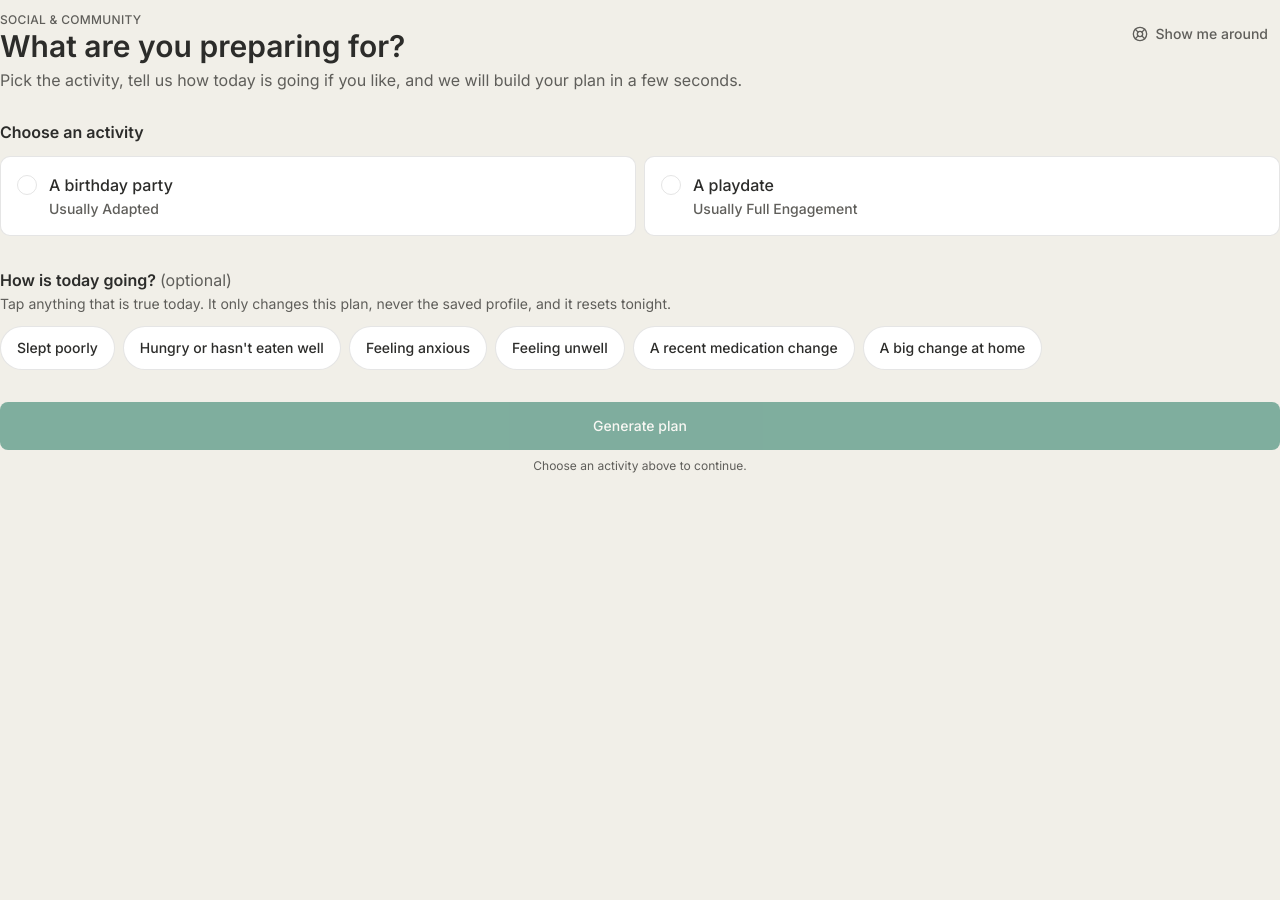
Test case: PlanScreen duplicate-plans guard › re-opens the existing plan via api.getPlan (a READ) and never POSTs api.preparePlan
Expected: the text "A birthday party" is shown, x1=49 y1=173 x2=173 y2=197
Click the button "A birthday party Usually Adapted" at (111, 185), box x1=0 y1=156 x2=636 y2=236
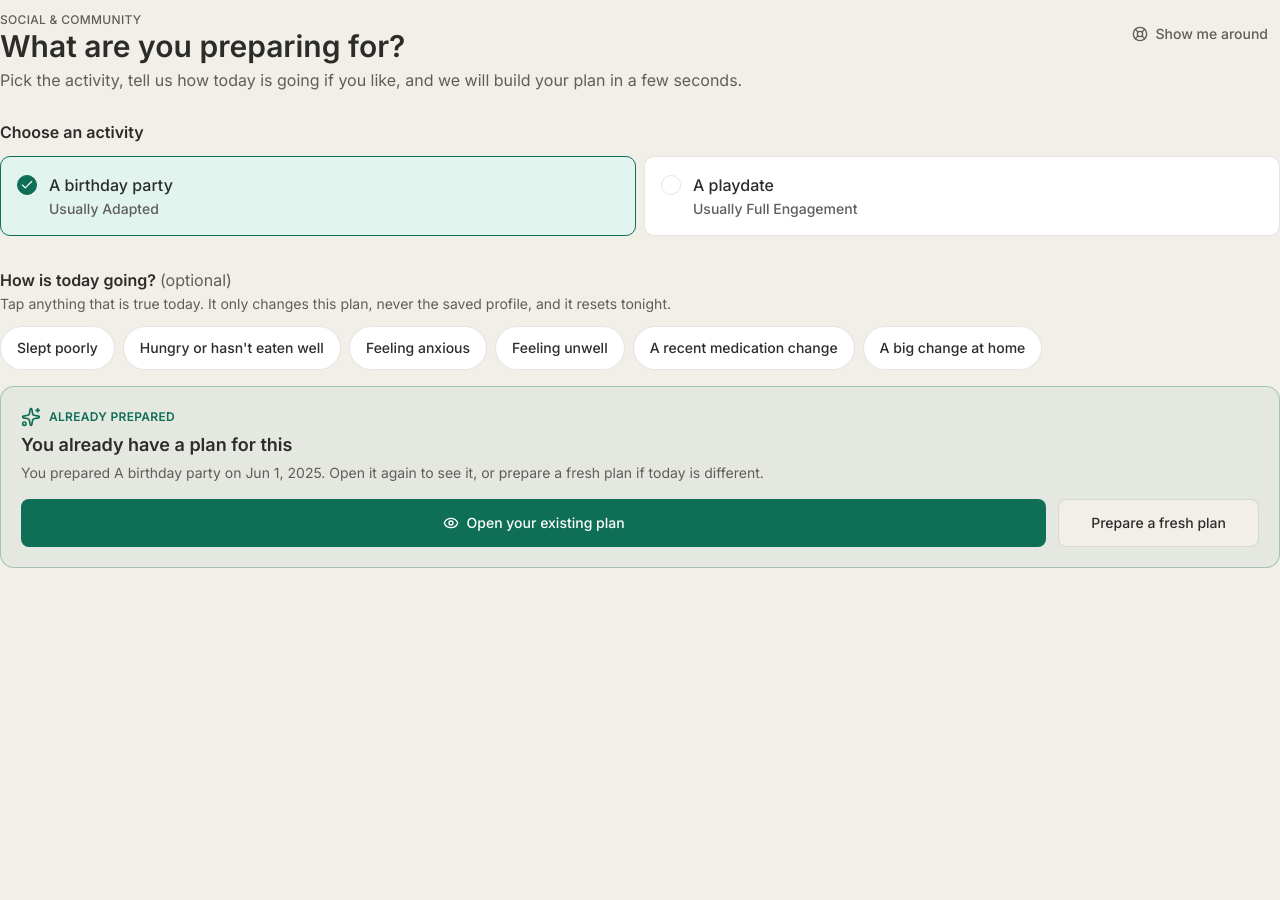
Click the button "Open your existing plan" at (534, 523), box x1=21 y1=499 x2=1046 y2=547
(page scrolled)
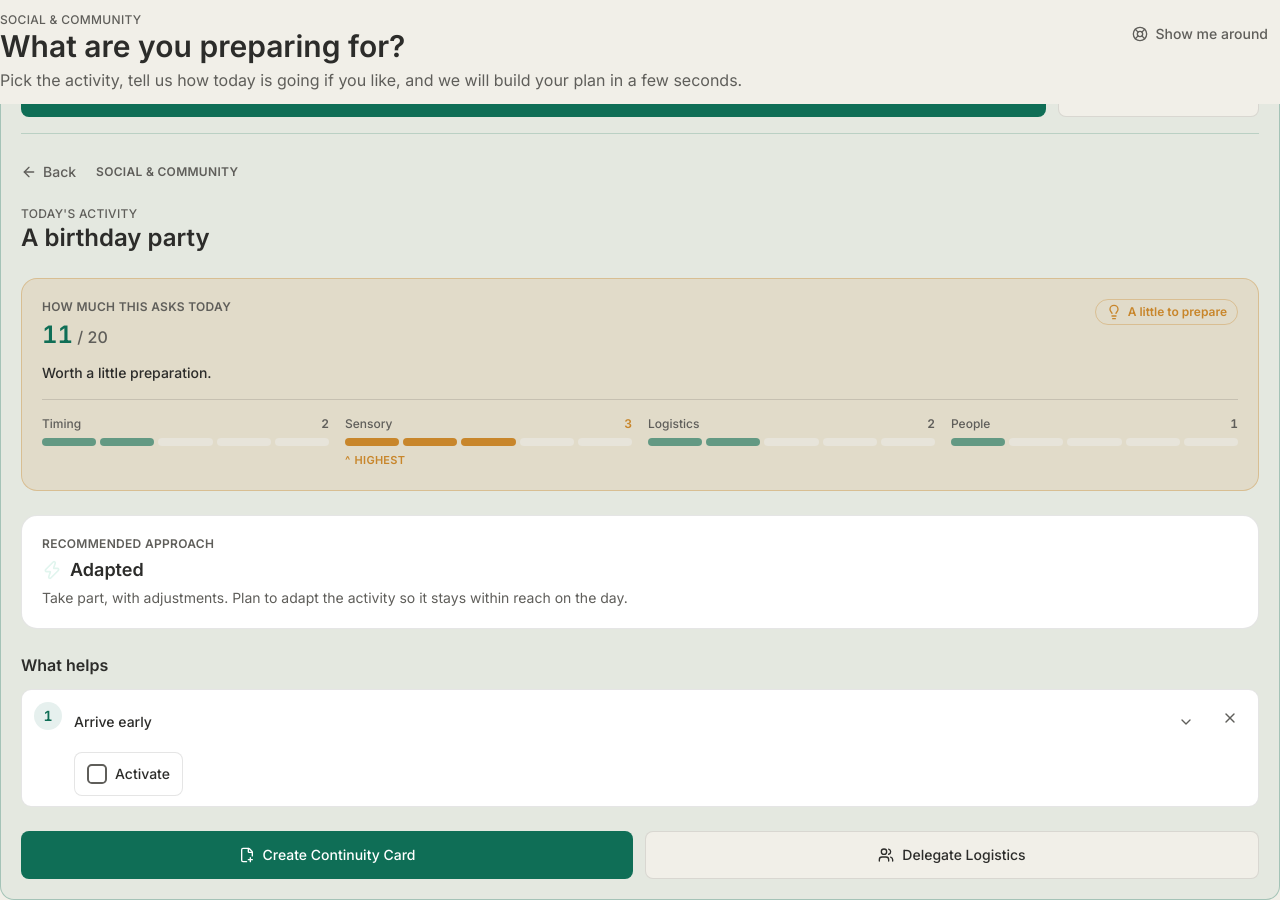
Expected: the heading "Adapted" is shown, x1=70 y1=556 x2=144 y2=584
Expected: the text "Arrive early" is shown, x1=74 y1=712 x2=152 y2=732
